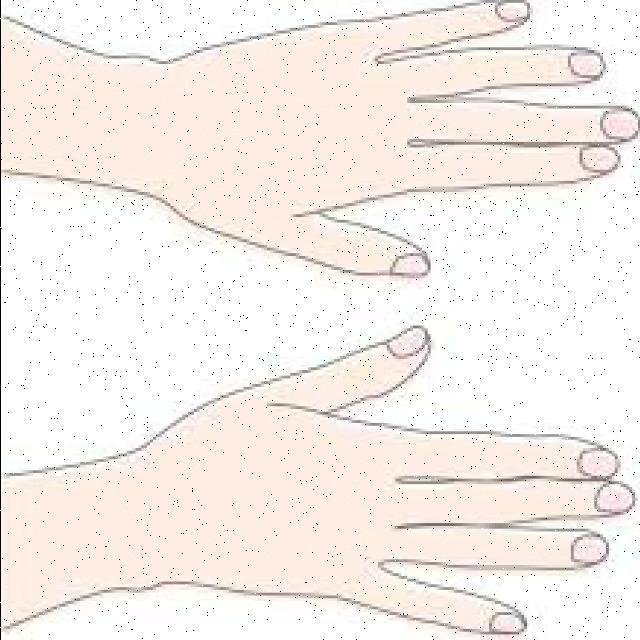no_apron: (172, 309, 640, 640), (162, 0, 635, 288)
